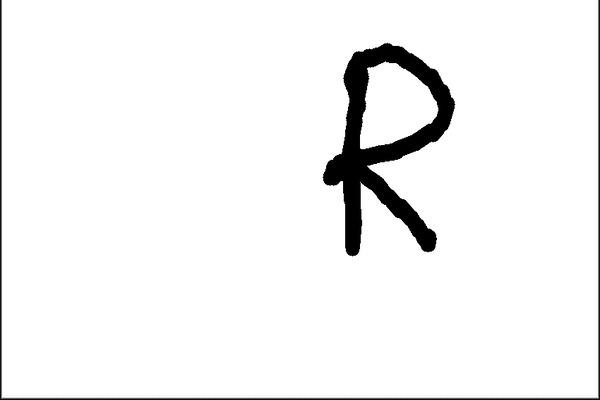R: (318, 40, 457, 262)
